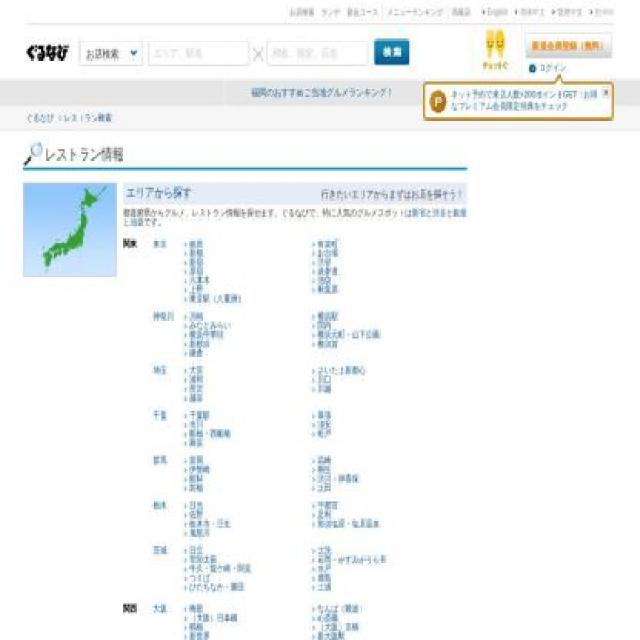button: (470, 26, 521, 80), (525, 32, 613, 60), (79, 40, 144, 66), (126, 186, 192, 200), (182, 563, 252, 574), (26, 44, 71, 61), (311, 554, 386, 564), (311, 328, 378, 339), (183, 293, 245, 304), (311, 518, 378, 528), (311, 364, 366, 376), (183, 582, 245, 592), (182, 612, 238, 623), (311, 603, 366, 614), (183, 319, 231, 330), (311, 473, 358, 484), (183, 428, 231, 438), (183, 518, 231, 528), (311, 622, 358, 632), (182, 328, 224, 339), (528, 62, 567, 73), (183, 554, 217, 564), (183, 274, 211, 286), (311, 310, 338, 322), (183, 410, 211, 421), (183, 527, 211, 538), (183, 572, 211, 583), (311, 247, 338, 258), (311, 499, 338, 510), (311, 612, 338, 623), (514, 8, 546, 17), (551, 8, 583, 17), (183, 338, 211, 348), (183, 464, 211, 474), (311, 238, 338, 248), (311, 266, 338, 276), (311, 284, 338, 294), (311, 338, 338, 348), (310, 274, 332, 286), (310, 454, 332, 466), (310, 508, 332, 520), (310, 544, 332, 556), (311, 632, 346, 639), (481, 8, 508, 17), (310, 256, 332, 267), (310, 319, 332, 330), (310, 383, 332, 394), (310, 410, 332, 421), (310, 418, 332, 429), (310, 482, 332, 493), (310, 563, 332, 574), (310, 572, 332, 583), (183, 310, 203, 322), (183, 364, 203, 376), (183, 454, 203, 466), (183, 508, 203, 520), (183, 544, 203, 556), (589, 8, 614, 17), (183, 247, 203, 258), (183, 256, 203, 267), (183, 347, 203, 358), (310, 374, 332, 384), (183, 383, 203, 394), (183, 392, 203, 403), (183, 418, 203, 429), (310, 428, 332, 438), (183, 437, 203, 448), (310, 464, 332, 474), (183, 473, 203, 484), (183, 482, 203, 493), (183, 499, 203, 510), (310, 582, 332, 592), (183, 603, 203, 614), (183, 238, 203, 248), (183, 266, 203, 276), (183, 284, 203, 294), (183, 374, 203, 384), (183, 622, 203, 632), (183, 632, 211, 639)
field: (148, 41, 248, 65), (268, 41, 368, 65), (374, 40, 409, 66)
